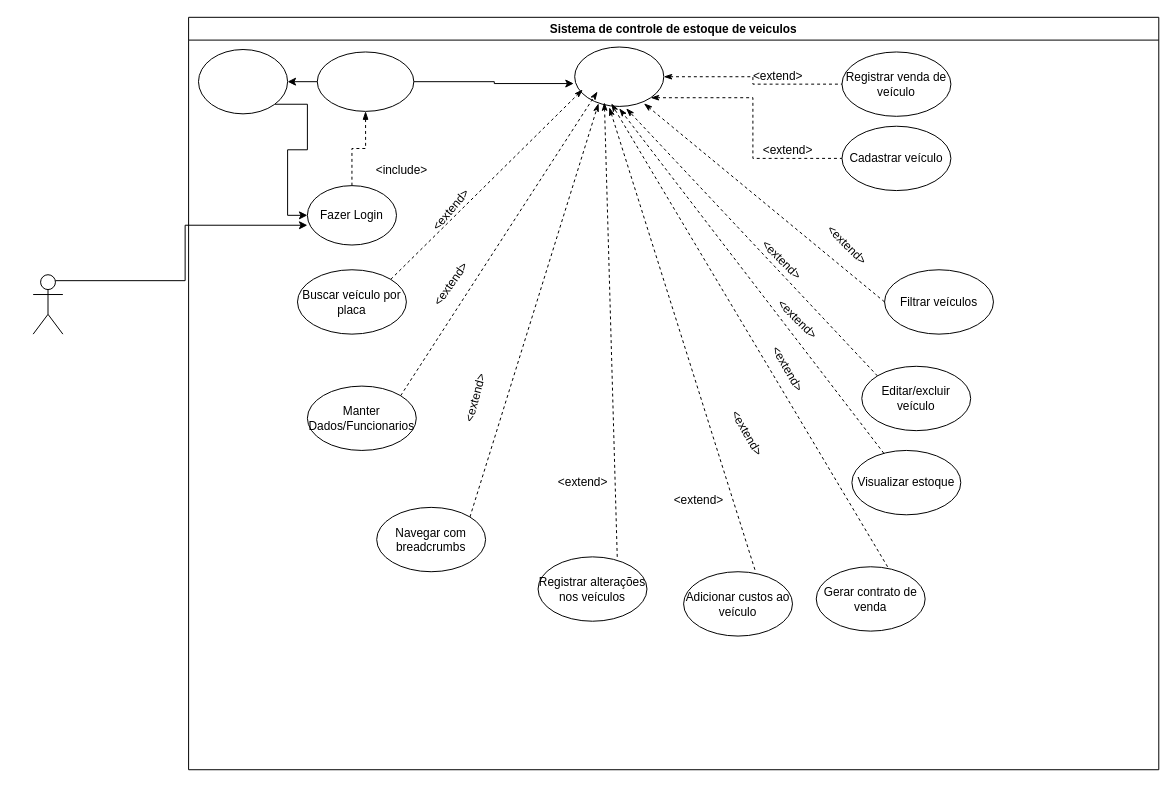
Some shapes in this 1176 by 787 pixel diagram are drawn without their labels. Each missing label, with the box of its shape:
Autenticação do Usuario: (316, 51, 414, 111)
Funcionario: (32, 274, 63, 334)
Usuário Não encontrado: (198, 49, 288, 114)
Usuário Ok: (574, 46, 664, 106)
